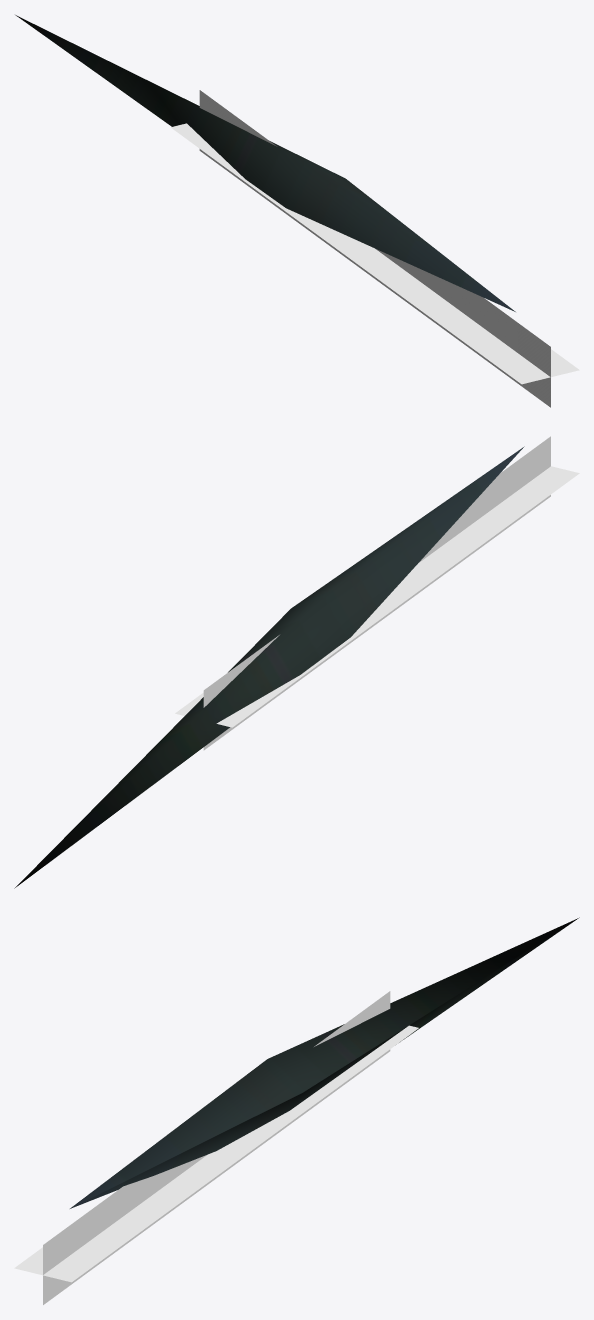
File: LunarShard.fbx
3 renders of one model, top to bottom at view 1: azimuth 30°, elevation 25°; view 2: azimuth 150°, elevation 25°; view 3: azimuth 330°, elevation 25°, orthographic.
Visible parts, largest first — view 1: LunarNeedleGhost, GameObject (1), GameObject; view 2: LunarNeedleGhost, GameObject (1), GameObject; view 3: LunarNeedleGhost, GameObject (1), GameObject.
Boxes of the visible parts, bbox=[...] form: LunarNeedleGhost: bbox=[15, 15, 515, 311]; GameObject (1): bbox=[171, 123, 579, 384]; GameObject: bbox=[199, 90, 550, 407]; LunarNeedleGhost: bbox=[14, 446, 524, 888]; GameObject (1): bbox=[175, 466, 579, 727]; GameObject: bbox=[203, 436, 550, 750]; LunarNeedleGhost: bbox=[70, 917, 579, 1208]; GameObject (1): bbox=[14, 1025, 418, 1282]; GameObject: bbox=[43, 991, 390, 1304].
Bounding box in the file's own units: 0.1532 × 0.187 × 2.37.
2 materials, 2 textured.
